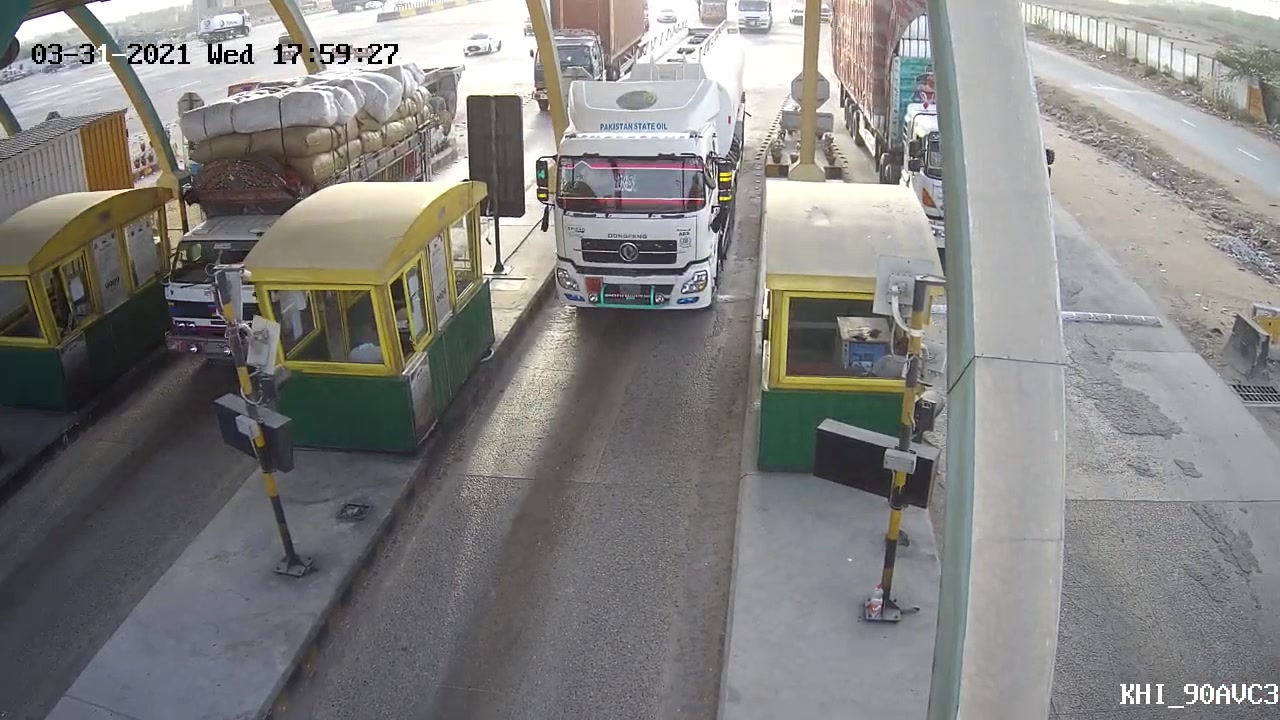F6: (534, 19, 756, 318)
